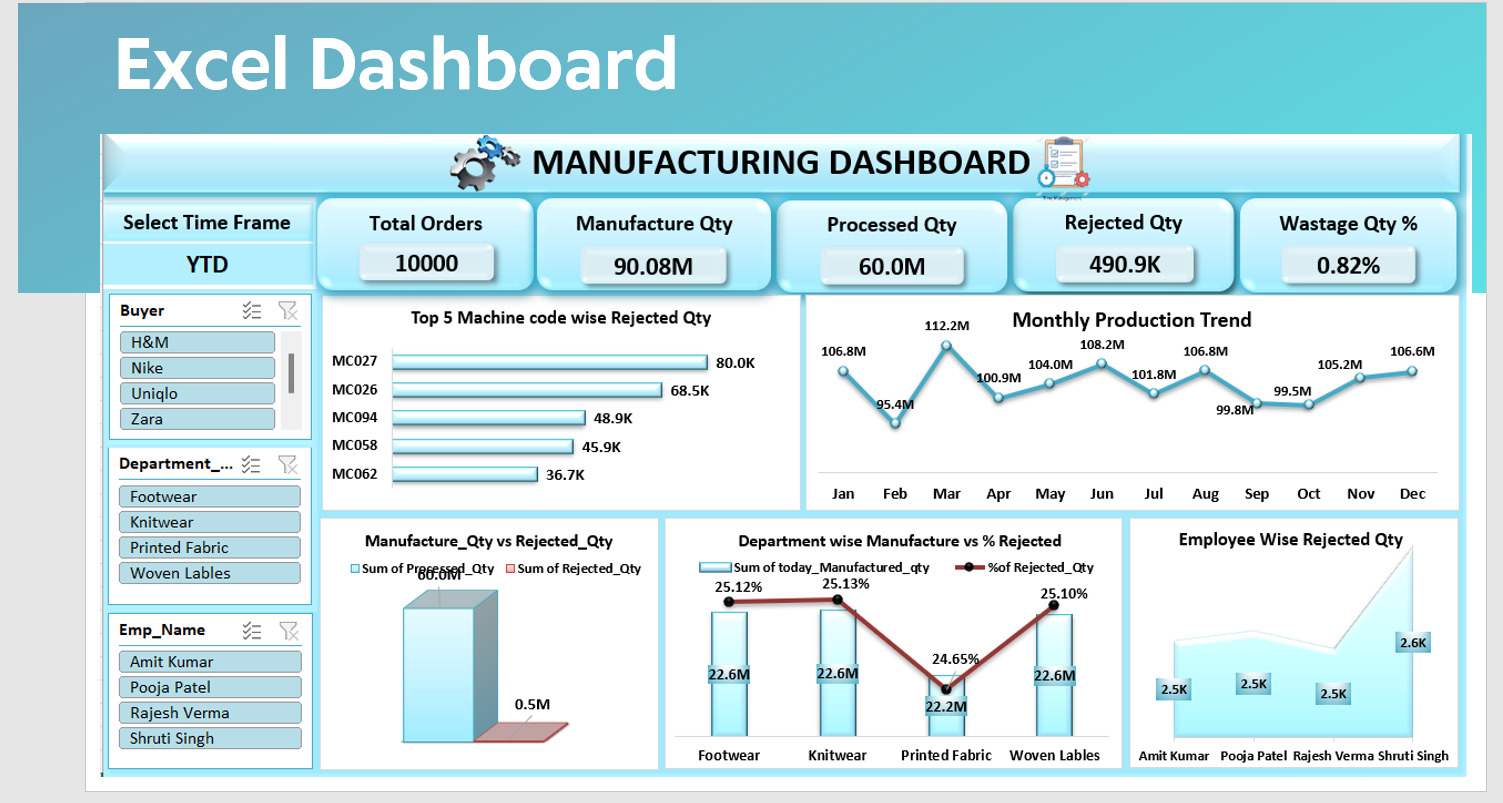

This screenshot's page, from the dashboard's own definition file:
{"tool":"tableau","page":{"name":"Dashboard 1","canvas":[1000,1000],"units":"permille","ordinal":0},"visuals":[{"type":"text","box":[110.4,10,793.6,89.9]},{"type":"dashboard-object","box":[904,10,44.1,89.9]},{"type":"dashboard-object","box":[948.1,10,47.1,89.9]},{"type":"image","param":"Image/manufacturing_logo-removebg-preview.png","box":[6.6,13.7,102,182.3]},{"type":"dashboard-object","box":[114.7,18.7,30.8,69.9]},{"type":"worksheet","title":"Total orders","mark":"Automatic","box":[110.4,99.9,173.6,94.9]},{"type":"worksheet","title":"Manufacture Qty","mark":"Automatic","box":[284,99.9,178.3,94.9]},{"type":"worksheet","title":"Processed Qty","mark":"Automatic","box":[462.3,99.9,177,94.9]},{"type":"worksheet","title":"Rejected Qty","mark":"Automatic","box":[639.3,99.9,180.6,94.9]},{"type":"worksheet","title":"Wastage Qty","mark":"Automatic","box":[819.9,99.9,175.3,94.9]},{"type":"worksheet","title":"Machine wise rejected ","mark":"Automatic","rows":["Machine Code"],"cols":["Rejected Qty"],"box":[110.4,194.8,397.1,375.8]},{"type":"worksheet","title":"Production comparison trend","mark":"Automatic","rows":["TotalQty"],"cols":["Doc Date"],"box":[507.5,194.8,487.6,375.8]},{"type":"filter","title":"Emp vs rej Qty (1)","param":"[federated.08yc9dh0mp69lu16btkrq1vnxnos].[none:Department Name:nk]","box":[6.6,196,102,189.8]},{"type":"filter","title":"Emp vs rej Qty (1)","param":"[federated.08yc9dh0mp69lu16btkrq1vnxnos].[none:Emp Name:nk]","box":[6.6,385.8,102,184.8]},{"type":"filter","title":"Production comparison trend","param":"[federated.08yc9dh0mp69lu16btkrq1vnxnos].[mn:Doc Date:ok]","box":[6.6,570.5,102,415.7]},{"type":"worksheet","title":"Emp vs rej Qty (1)","mark":"Automatic","rows":["Calculation_503277295069446149","Calculation_503277295069462535"],"box":[110.4,570.5,268.6,419.5]},{"type":"worksheet","title":"Manufacture vs rejected","mark":"Automatic","box":[379,570.5,287.3,419.5]},{"type":"worksheet","title":"Dept wise manu vs rej","mark":"Automatic","rows":["today Manufactured qty","Rejected Qty"],"cols":["Department Name"],"box":[666.3,570.5,328.9,419.5]}]}

Visuals, with their boxes on the dashboard's canvas, which has no fixed pixel size, in thousandths of its width and height (x1, y1, x2, y2). These are canvas units, not pixel positions in the 1503x803 screenshot, which may show the page scaled, cropped or inside an application window:
text: l=110, t=10, r=904, b=100
dashboard-object: l=904, t=10, r=948, b=100
dashboard-object: l=948, t=10, r=995, b=100
image: l=7, t=14, r=109, b=196
dashboard-object: l=115, t=19, r=146, b=89
"Total orders" worksheet: l=110, t=100, r=284, b=195
"Manufacture Qty" worksheet: l=284, t=100, r=462, b=195
"Processed Qty" worksheet: l=462, t=100, r=639, b=195
"Rejected Qty" worksheet: l=639, t=100, r=820, b=195
"Wastage Qty" worksheet: l=820, t=100, r=995, b=195
"Machine wise rejected " worksheet: l=110, t=195, r=508, b=571
"Production comparison trend" worksheet: l=508, t=195, r=995, b=571
"Emp vs rej Qty (1)" filter: l=7, t=196, r=109, b=386
"Emp vs rej Qty (1)" filter: l=7, t=386, r=109, b=571
"Production comparison trend" filter: l=7, t=570, r=109, b=986
"Emp vs rej Qty (1)" worksheet: l=110, t=570, r=379, b=990
"Manufacture vs rejected" worksheet: l=379, t=570, r=666, b=990
"Dept wise manu vs rej" worksheet: l=666, t=570, r=995, b=990
